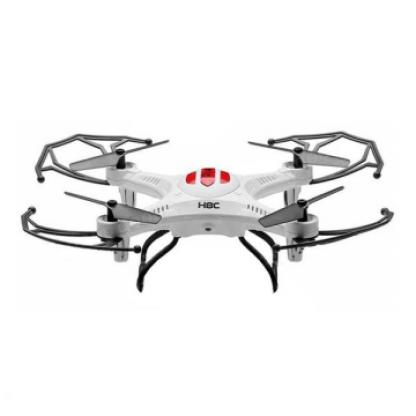drone: (18, 125, 408, 270)
